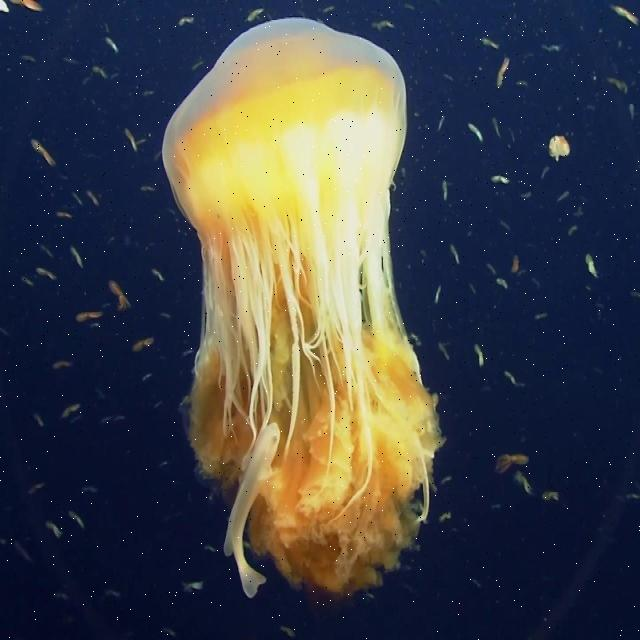fish: (224, 425, 280, 597)
reefs: (161, 16, 444, 600)
